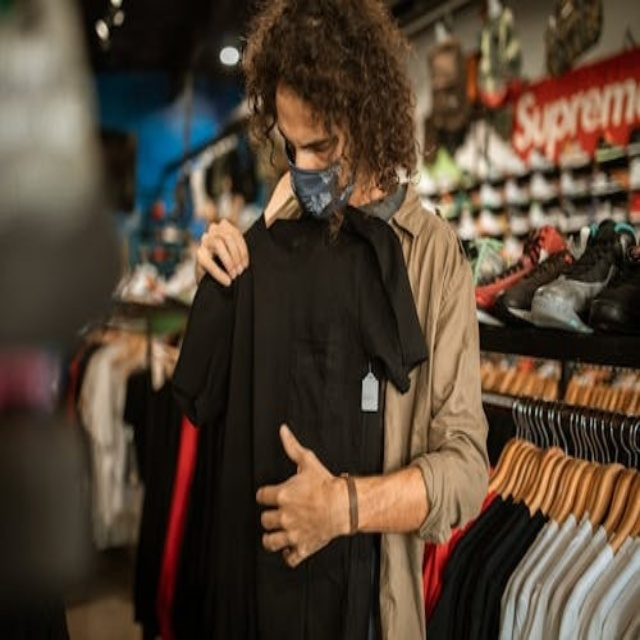Mascara: (279, 154, 356, 219)
Sin_gafas: (276, 116, 343, 168)
Sin_guantes: (256, 421, 353, 565), (193, 215, 250, 290)
